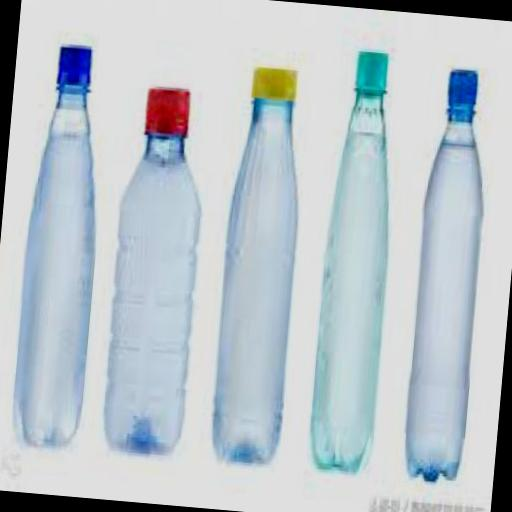plastic: (95, 81, 213, 456), (304, 46, 406, 473), (6, 40, 112, 448), (206, 59, 312, 463), (399, 64, 496, 481), (142, 83, 192, 138), (54, 42, 93, 96), (248, 60, 298, 102), (352, 48, 390, 100), (444, 65, 478, 123)
